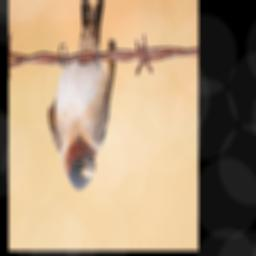Swallow: (47, 0, 116, 191)
